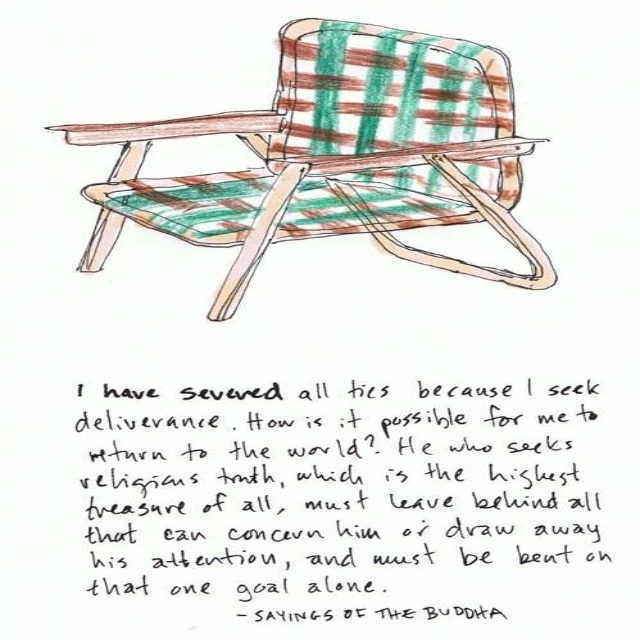obstacle: (47, 18, 555, 320)
